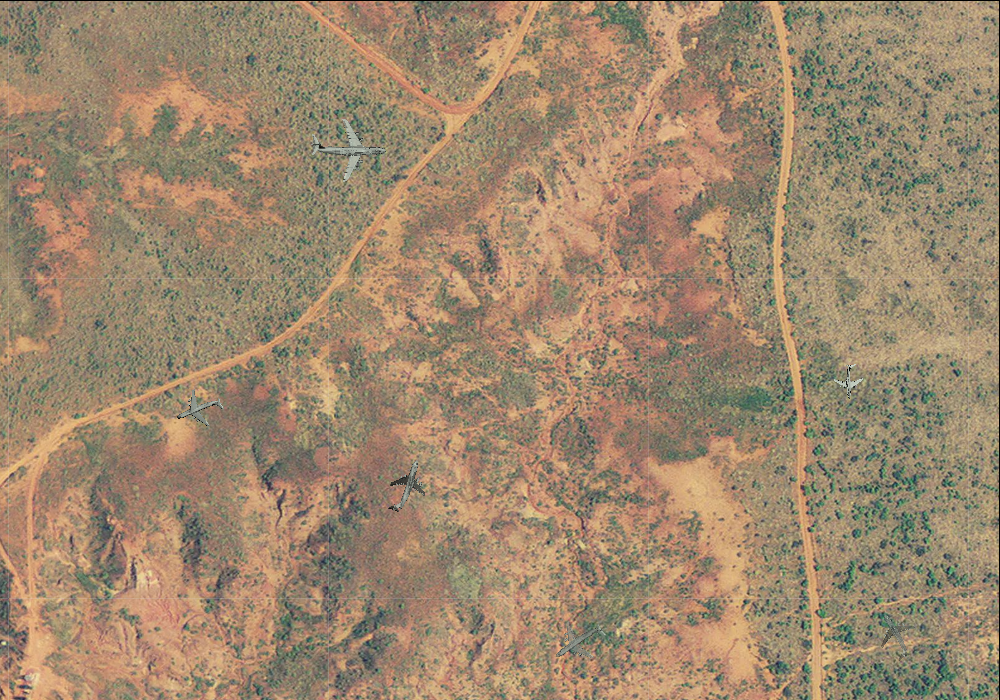plane: (542, 606, 616, 679), (310, 112, 385, 183), (863, 603, 927, 669), (374, 452, 436, 520), (168, 379, 230, 440), (833, 363, 867, 399)
